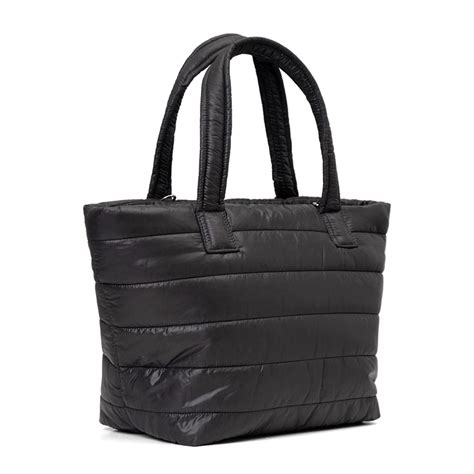nylon: (83, 195, 392, 449)
